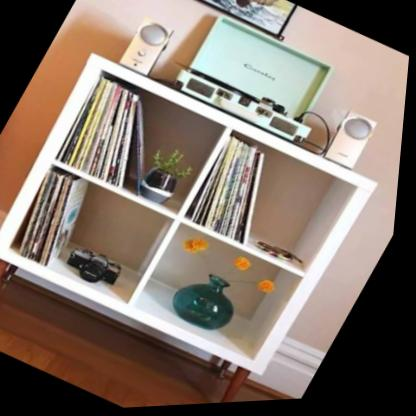Shelf: (0, 34, 401, 416)
